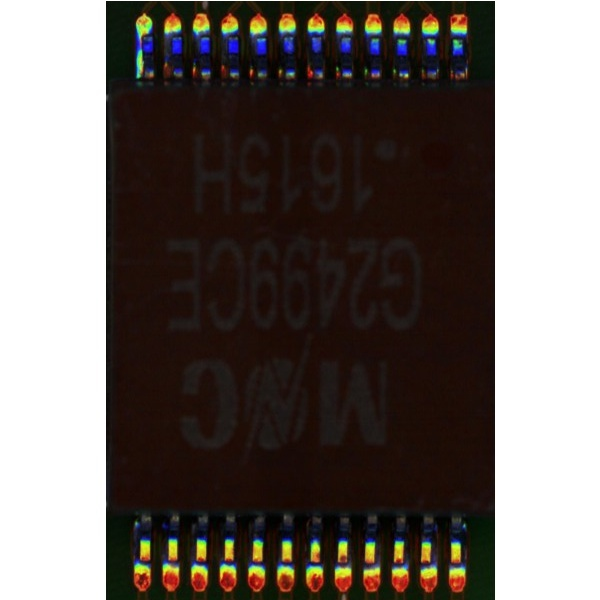Bad_qiaojiao: (134, 31, 144, 76)
